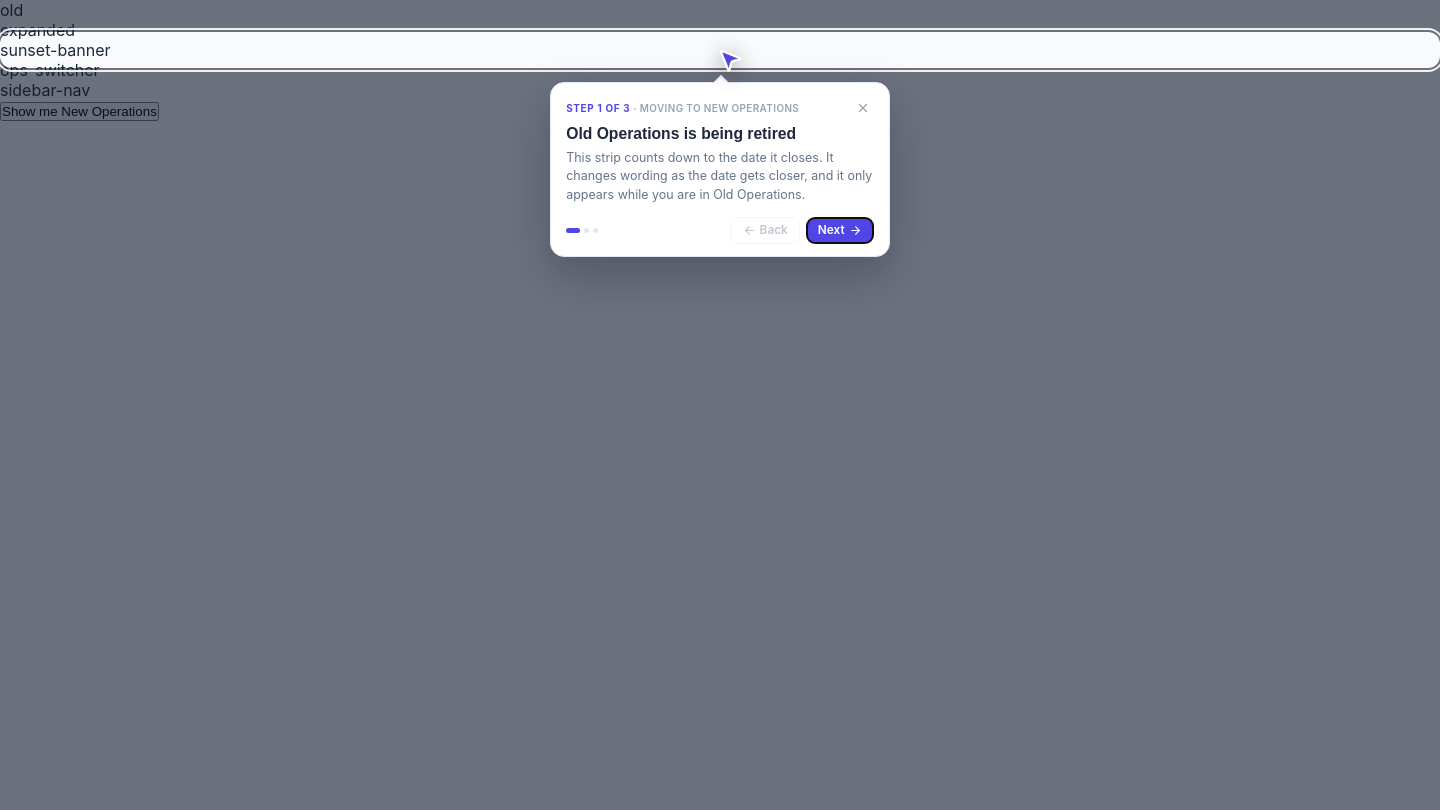
Test: TourProvider: leaving and completing the sunset tour › leaving at step 1 marks the tour seen at version 1
Click the button "Next" at coordinates (840, 230), box [806, 217, 874, 244]
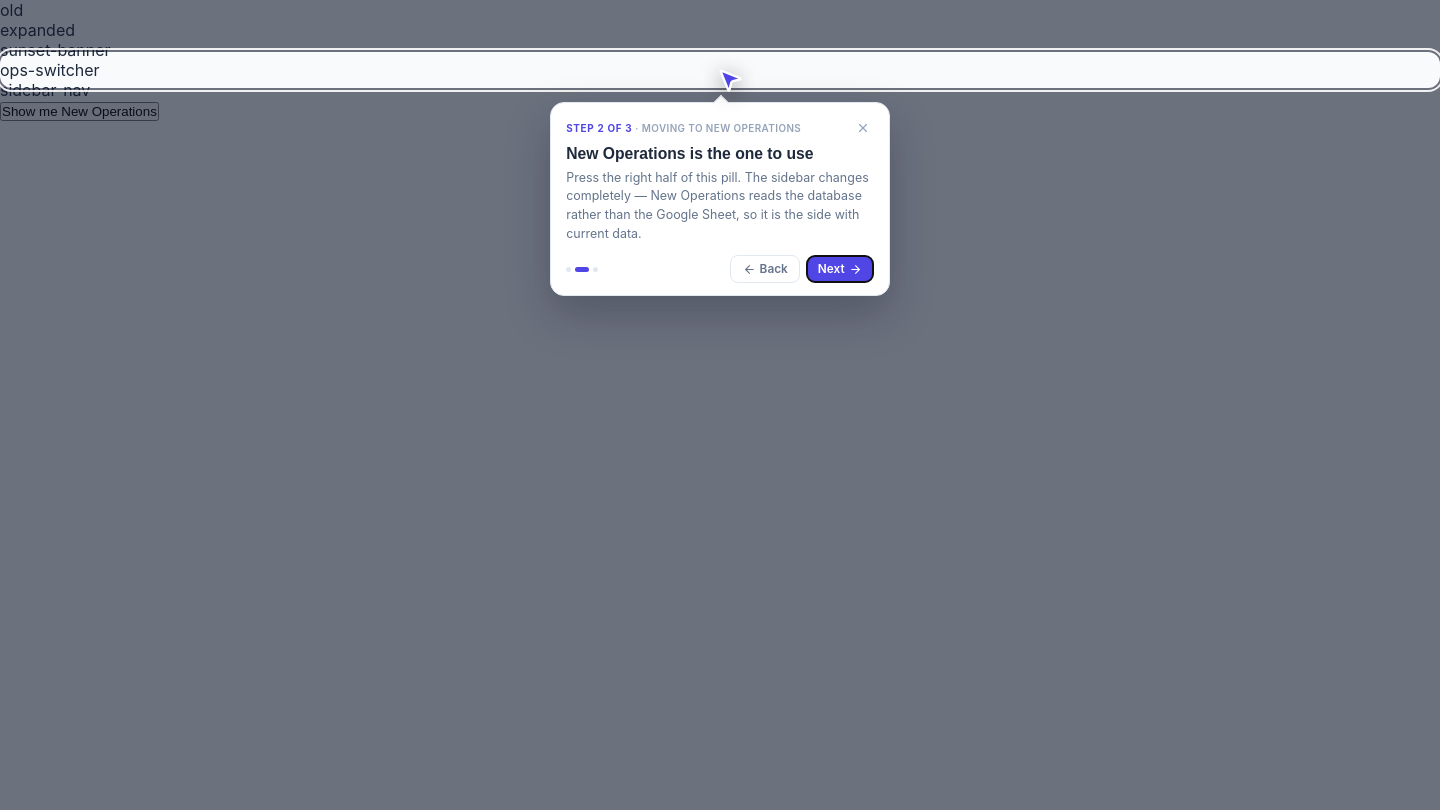
Click the button named "leave the tour" at coordinates (863, 128), box [852, 117, 874, 139]
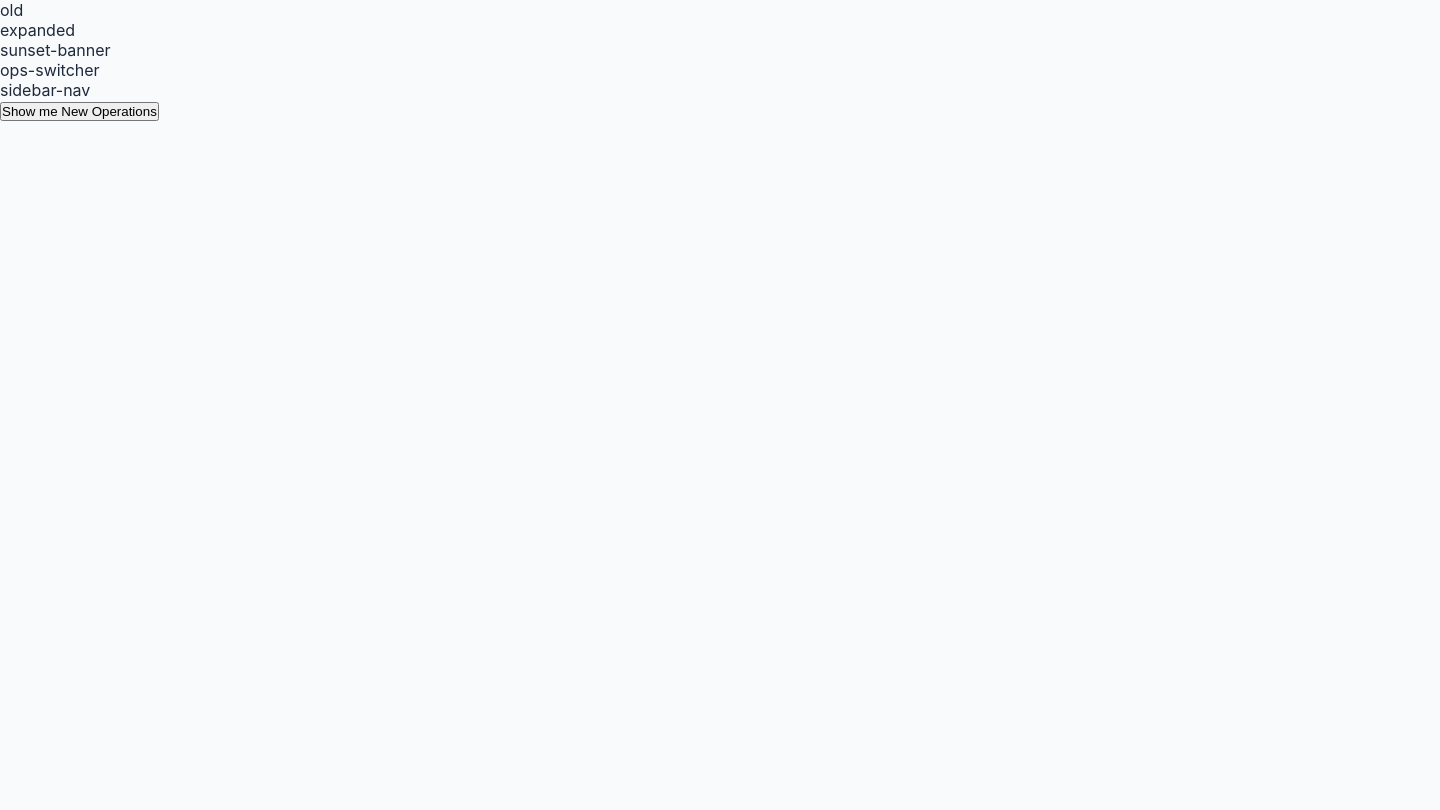
Expected: the text with test id "ops-mode" reads "old", [0, 0, 23, 20]
Now the dialog is gone
